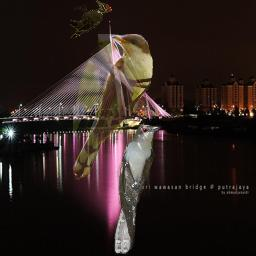Cuckoo: (73, 34, 153, 180), (113, 123, 162, 254)
Woodpecker: (70, 0, 112, 39)
